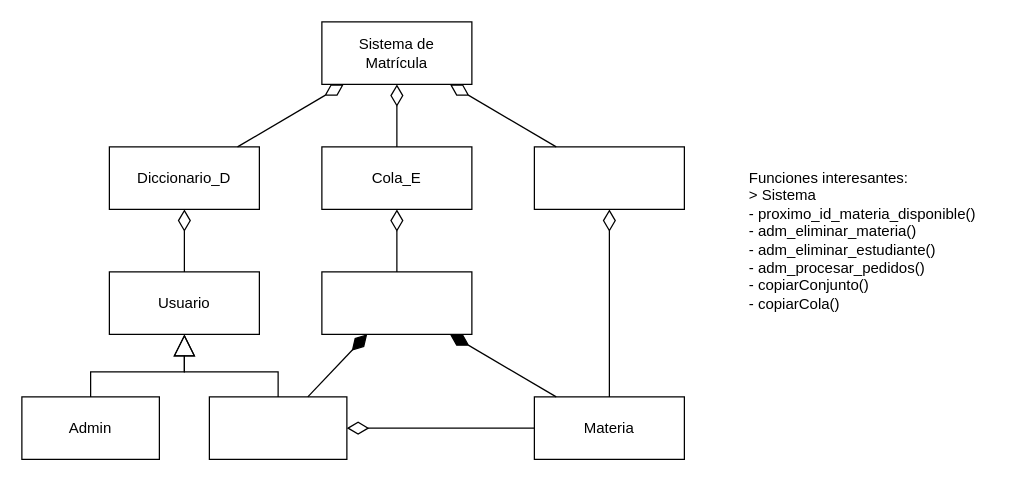
Image size: 1019x481. Some labels were removed from this diagram. The box of each missing label's shape, as (x1, y1, x2, y2) in pixels:
Conjunto_E: (533, 146, 684, 209)
Estudiante: (208, 396, 347, 459)
Pedido de Inscripción: (321, 271, 472, 334)
